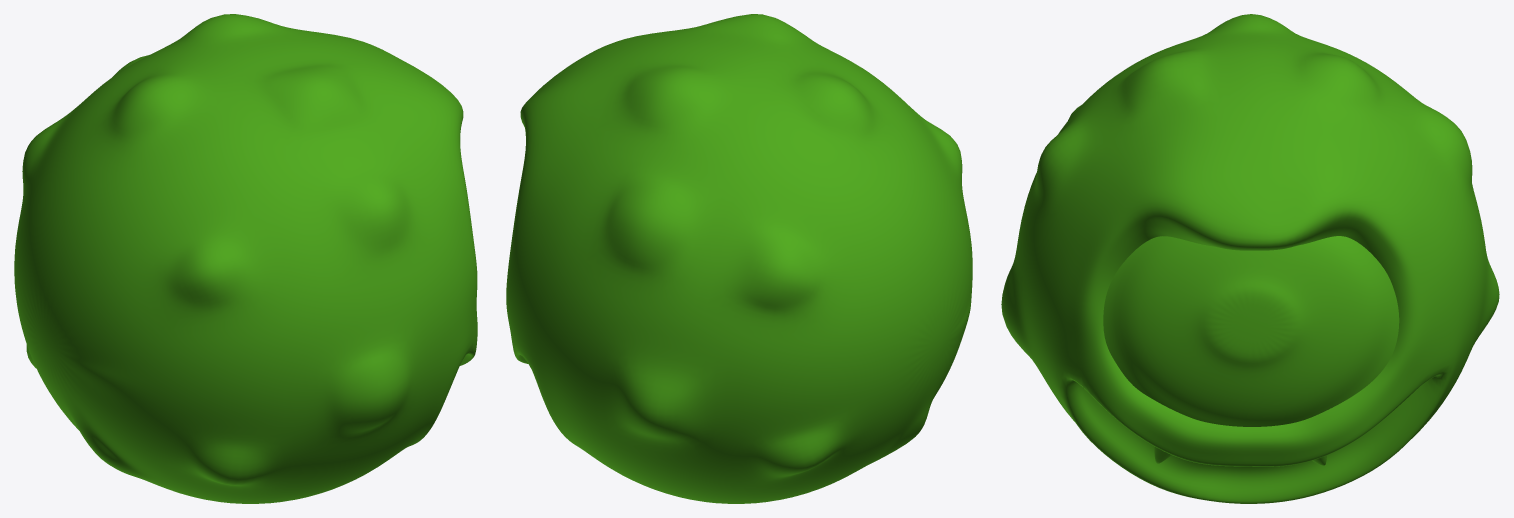
File: Alien Ball Texturing.fbx
3 views of the same model, side by side, from view 1: azimuth 30°, elevation 25°; view 2: azimuth 150°, elevation 25°; view 3: azimuth 270°, elevation 25° (orthographic).
Visible parts, largest first — view 1: Body.004; view 2: Body.004; view 3: Body.004, Eye.004.
Boxes of the visible parts, left/top/right/bottom form: Body.004: left=14, top=14, right=477, bottom=503; Body.004: left=506, top=14, right=972, bottom=503; Body.004: left=1001, top=14, right=1499, bottom=503; Eye.004: left=1103, top=236, right=1399, bottom=426.
Bounding box in the file's own units: 171 × 174 × 184.
